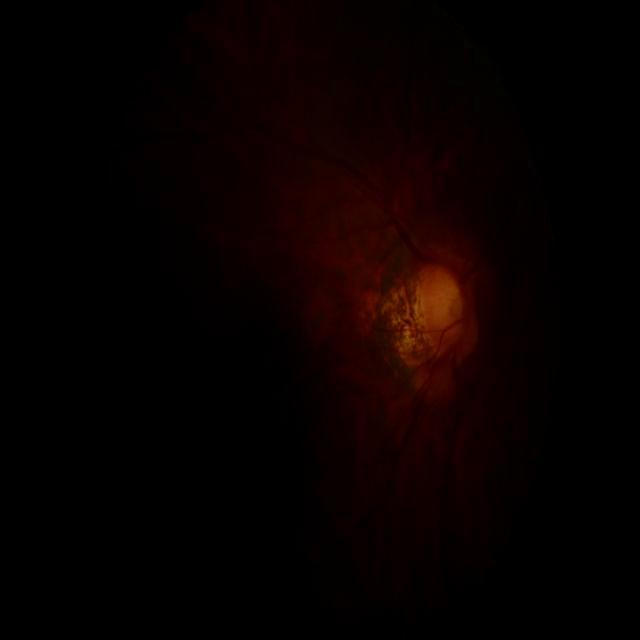cup: (422, 268, 463, 348)
disk: (416, 263, 466, 356)
